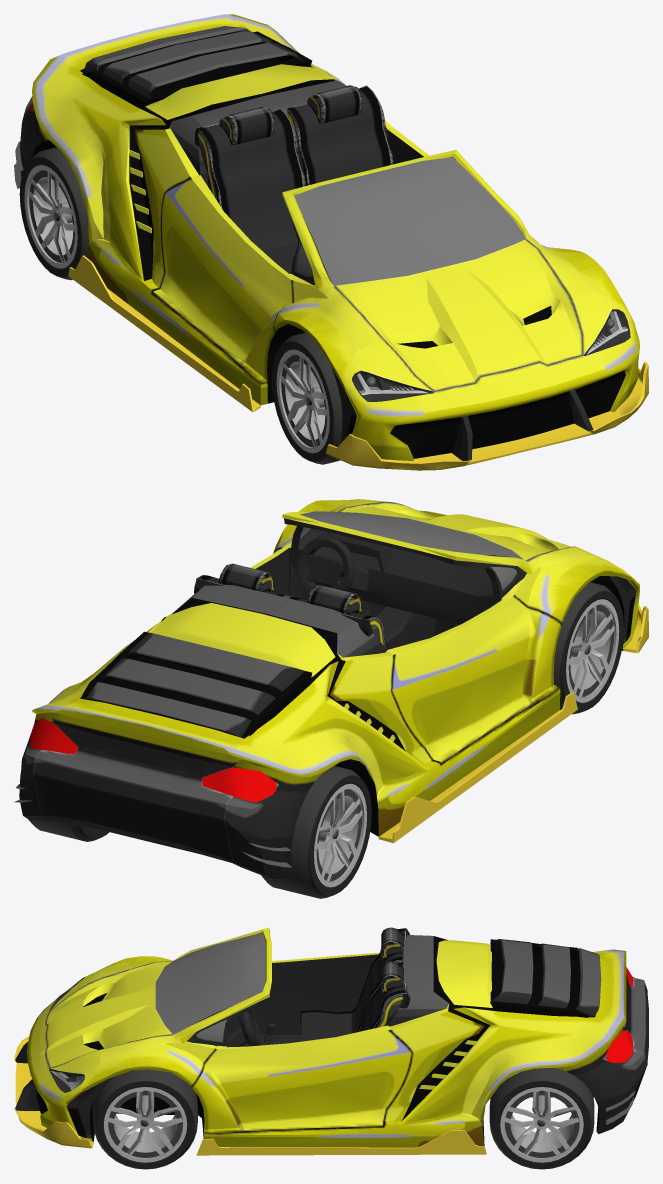
The model's file is HCR2 Supercar.fbx.
The picture shows the model from 3 angles, top to bottom: view 1: azimuth 30°, elevation 25°; view 2: azimuth 150°, elevation 25°; view 3: azimuth 270°, elevation 25°; orthographic projection. The views are drawn at different scales.
Visible parts, largest first — view 1: HCR2_SC_Body, HCR2_SC_Window, HCR2_SC_Right_Seat, HCR2_SC_BodyKit, HCR2_SC_En_Cover, HCR2_SC_Left_Seat, HCR2_SC_FR_Rim, HCR2_SC_RR_Rim, HCR2_SC_FR_Tire, HCR2_SC_RR_Tire, HCR2_SC_FLights, HCR2_SC_Chassis (+1 smaller); view 2: HCR2_SC_Body, HCR2_SC_Interior, HCR2_SC_En_Cover, HCR2_SC_RR_Tire, HCR2_SC_Window, HCR2_SC_BodyKit, HCR2_SC_RR_Rim, HCR2_SC_FR_Rim, HCR2_SC_LightsCover, HCR2_SC_FR_Tire, HCR2_SC_Steer, HCR2_SC_Right_Seat (+3 smaller); view 3: HCR2_SC_Body, HCR2_SC_Window, HCR2_SC_Interior, HCR2_SC_En_Cover, HCR2_SC_BodyKit, HCR2_SC_RL_Rim, HCR2_SC_FL_Rim, HCR2_SC_RL_Tire, HCR2_SC_FL_Tire, HCR2_SC_Right_Seat, HCR2_SC_Left_Seat, HCR2_SC_LightsCover (+3 smaller).
Boxes of the visible parts, x1=… form: HCR2_SC_Body: x1=14, y1=14, x2=639, y2=460; HCR2_SC_Window: x1=294, y1=157, x2=525, y2=285; HCR2_SC_Right_Seat: x1=195, y1=106, x2=327, y2=275; HCR2_SC_BodyKit: x1=68, y1=255, x2=648, y2=470; HCR2_SC_En_Cover: x1=82, y1=26, x2=311, y2=107; HCR2_SC_Left_Seat: x1=287, y1=85, x2=393, y2=185; HCR2_SC_FR_Rim: x1=276, y1=349, x2=329, y2=453; HCR2_SC_RR_Rim: x1=24, y1=165, x2=77, y2=268; HCR2_SC_FR_Tire: x1=272, y1=332, x2=342, y2=464; HCR2_SC_RR_Tire: x1=19, y1=147, x2=89, y2=280; HCR2_SC_FLights: x1=352, y1=309, x2=630, y2=401; HCR2_SC_Chassis: x1=31, y1=139, x2=304, y2=403; HCR2_SC_Body: x1=14, y1=499, x2=639, y2=879; HCR2_SC_Interior: x1=255, y1=519, x2=517, y2=649; HCR2_SC_En_Cover: x1=82, y1=631, x2=312, y2=738; HCR2_SC_RR_Tire: x1=261, y1=765, x2=371, y2=898; HCR2_SC_Window: x1=300, y1=511, x2=523, y2=590; HCR2_SC_BodyKit: x1=378, y1=605, x2=648, y2=843; HCR2_SC_RR_Rim: x1=314, y1=783, x2=366, y2=887; HCR2_SC_FR_Rim: x1=566, y1=599, x2=619, y2=702; HCR2_SC_LightsCover: x1=30, y1=718, x2=276, y2=802; HCR2_SC_FR_Tire: x1=553, y1=582, x2=623, y2=714; HCR2_SC_Steer: x1=298, y1=537, x2=355, y2=593; HCR2_SC_Right_Seat: x1=284, y1=585, x2=388, y2=649; HCR2_SC_Body: x1=27, y1=927, x2=648, y2=1147; HCR2_SC_Window: x1=155, y1=932, x2=265, y2=1042; HCR2_SC_Interior: x1=189, y1=932, x2=387, y2=1047; HCR2_SC_En_Cover: x1=490, y1=939, x2=601, y2=1018; HCR2_SC_BodyKit: x1=14, y1=1036, x2=486, y2=1155; HCR2_SC_RL_Rim: x1=500, y1=1087, x2=583, y2=1162; HCR2_SC_FL_Rim: x1=103, y1=1087, x2=187, y2=1162; HCR2_SC_RL_Tire: x1=489, y1=1068, x2=594, y2=1169; HCR2_SC_FL_Tire: x1=93, y1=1069, x2=197, y2=1169; HCR2_SC_Right_Seat: x1=300, y1=927, x2=409, y2=1034; HCR2_SC_Left_Seat: x1=359, y1=961, x2=410, y2=1031; HCR2_SC_LightsCover: x1=605, y1=967, x2=633, y2=1062.
Bounding box in the file's own units: 218 × 135 × 470.
Materials: 4 (2 with a texture image).
